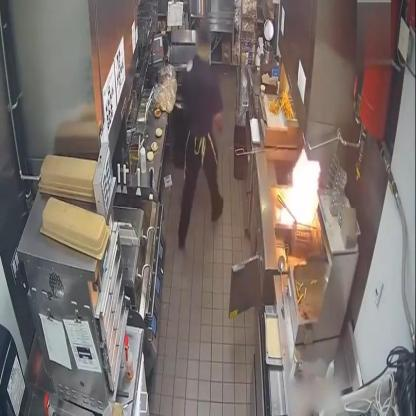fire: (281, 143, 323, 229)
